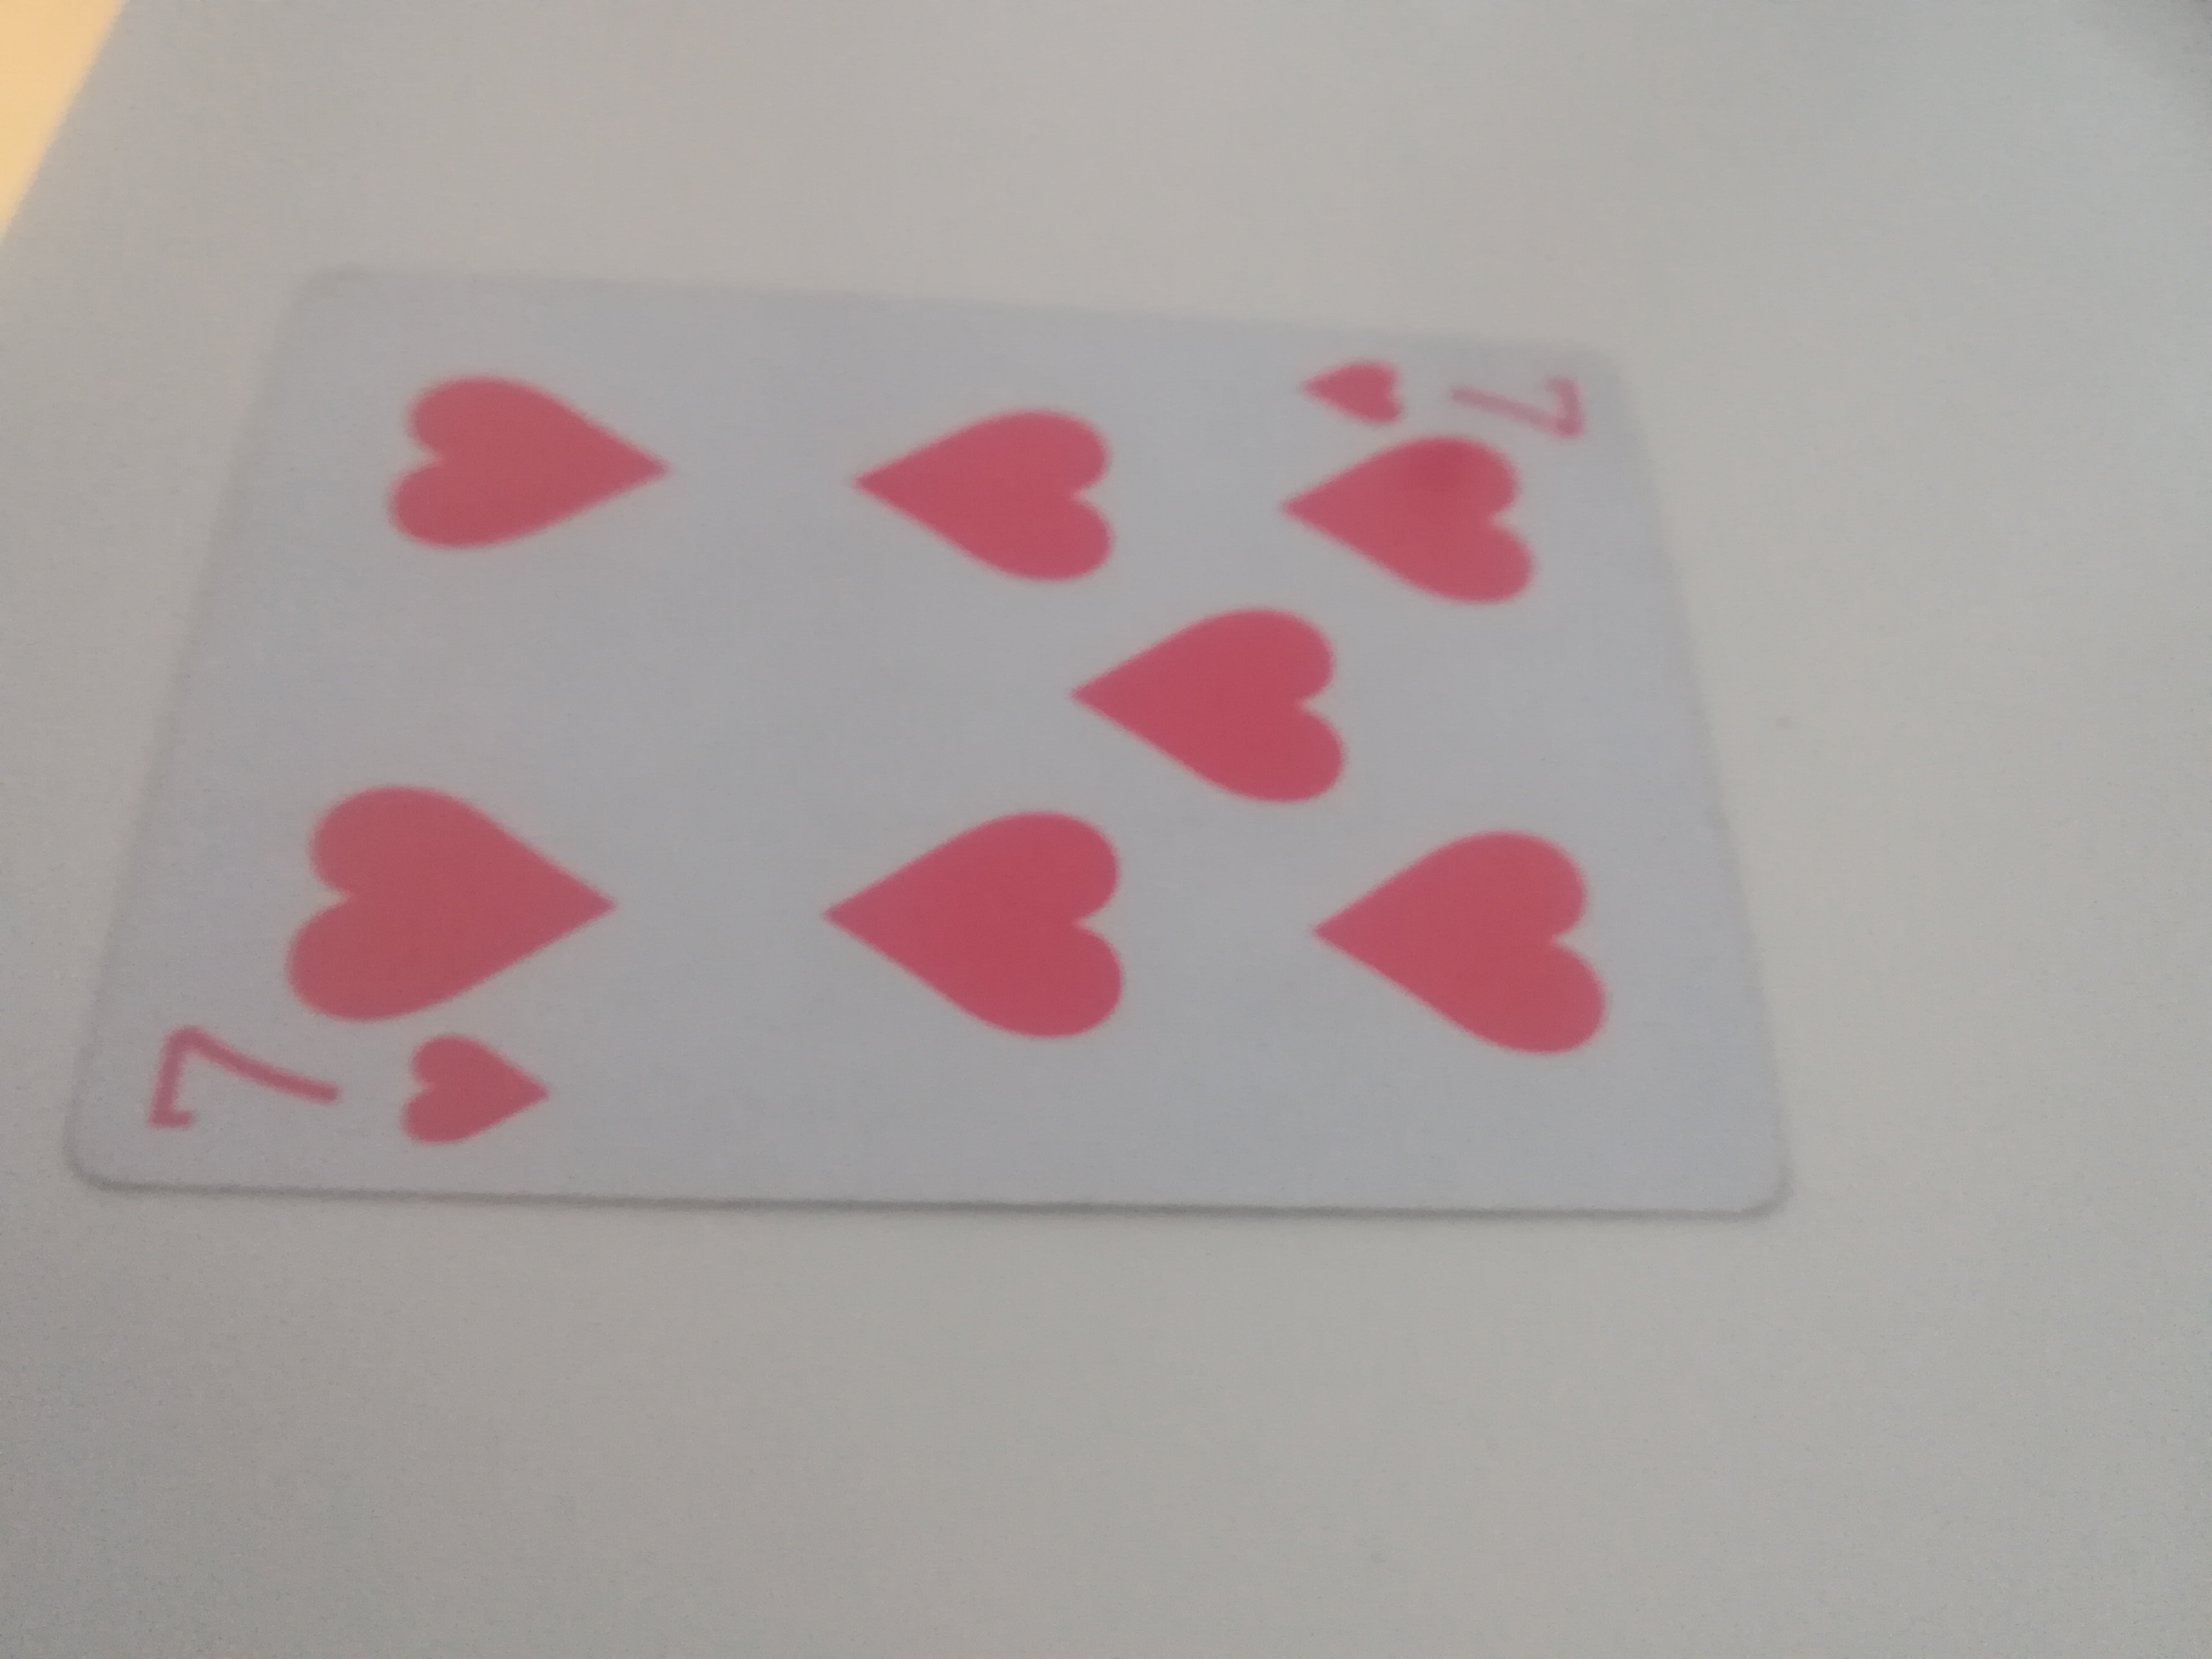7H: (54, 263, 1815, 1229)
